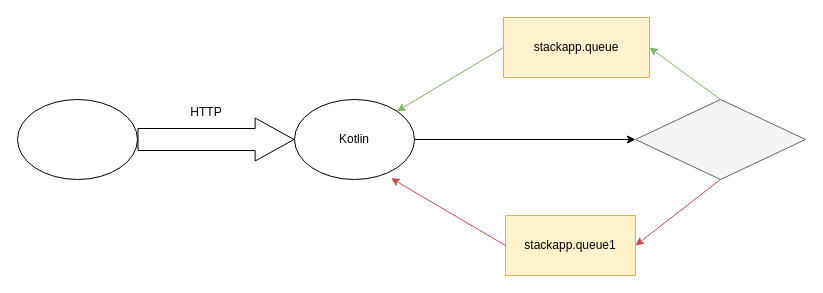
The diagram is 823 pixels wide and 293 high, and some of its shapes have lost their labels. Here are the shapes that lost their labels. From the top down, the box of each, then its label:
(16, 98, 138, 180): Python
(634, 98, 806, 180): Direct Exchange
